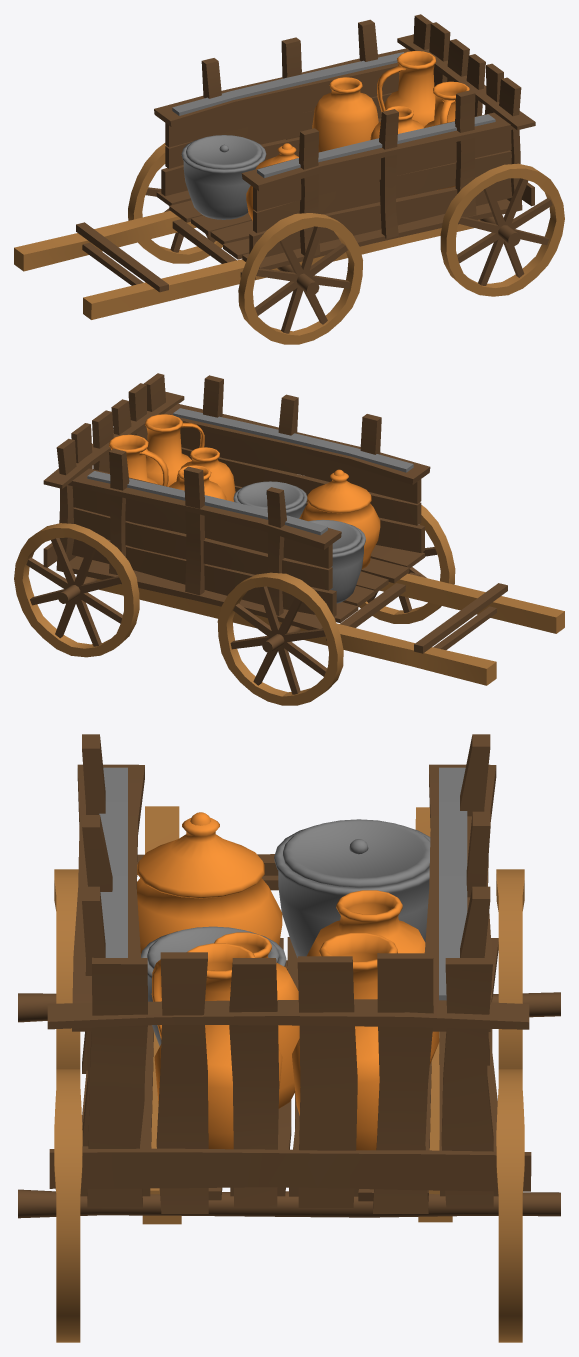
File: SM_cart_wares.fbx
3 renders of one model, top to bottom at view 1: azimuth 30°, elevation 25°; view 2: azimuth 150°, elevation 25°; view 3: azimuth 270°, elevation 25°, orthographic. The views are drawn at different scales.
Visible parts, largest first — view 1: Object32710; view 2: Object32710; view 3: Object32710.
Boxes of the visible parts, <box> form: Object32710: <box>14,14,564,344</box>; Object32710: <box>14,373,564,705</box>; Object32710: <box>18,734,560,1342</box>.
Size of the model in its own units: 139 by 59.86 by 72.28.
